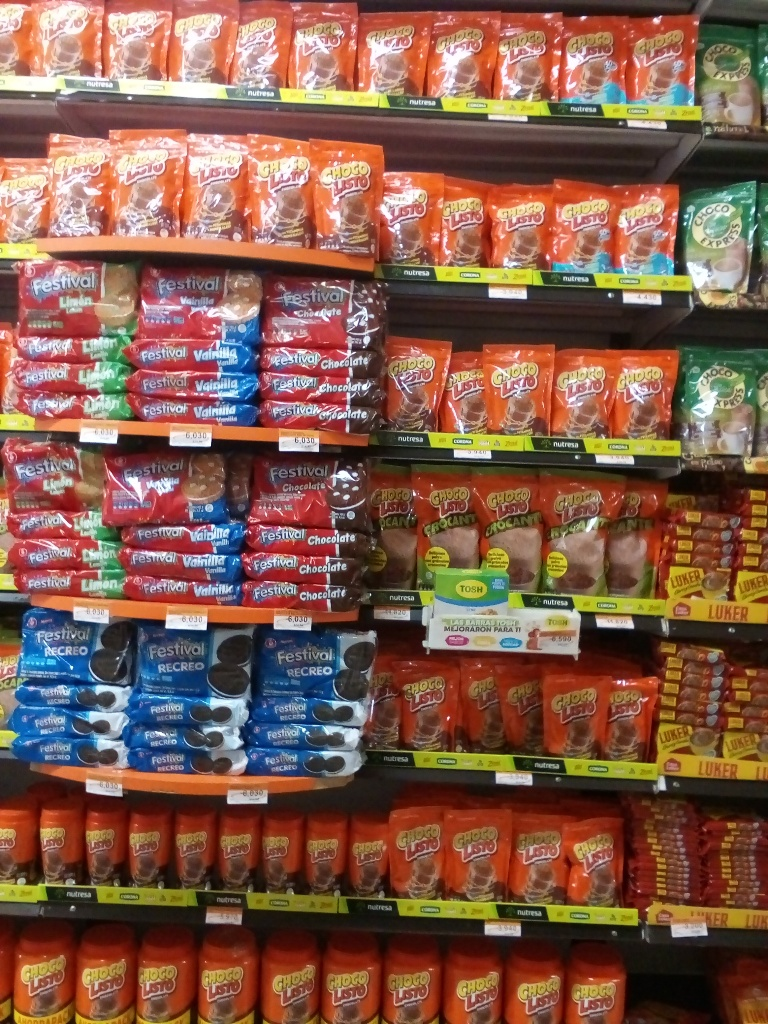COL0170103TRR00100: (562, 940, 630, 1022)
COL0170104DYP20000: (614, 183, 676, 274)
